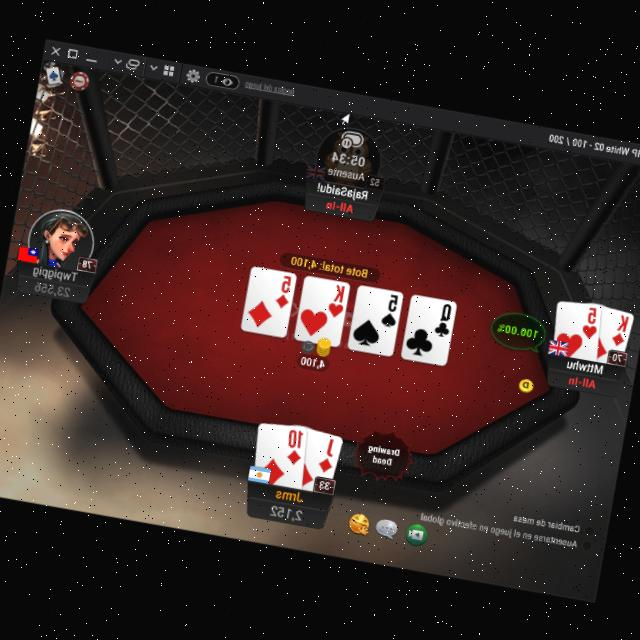5d: (272, 270, 296, 308)
5h: (580, 304, 602, 340)
5s: (378, 288, 402, 328)
Jd: (314, 431, 338, 473)
Kd: (608, 310, 630, 346)
Kh: (326, 280, 348, 318)
Qc: (432, 299, 454, 338)
Td: (282, 423, 308, 466)
all_in_symbol: (323, 195, 356, 214), (567, 371, 598, 388)
bet_text: (298, 352, 328, 369)
dealer: (516, 372, 536, 393)
pot_text: (288, 252, 368, 277)
stack_text: (268, 500, 306, 522), (32, 278, 72, 298)
